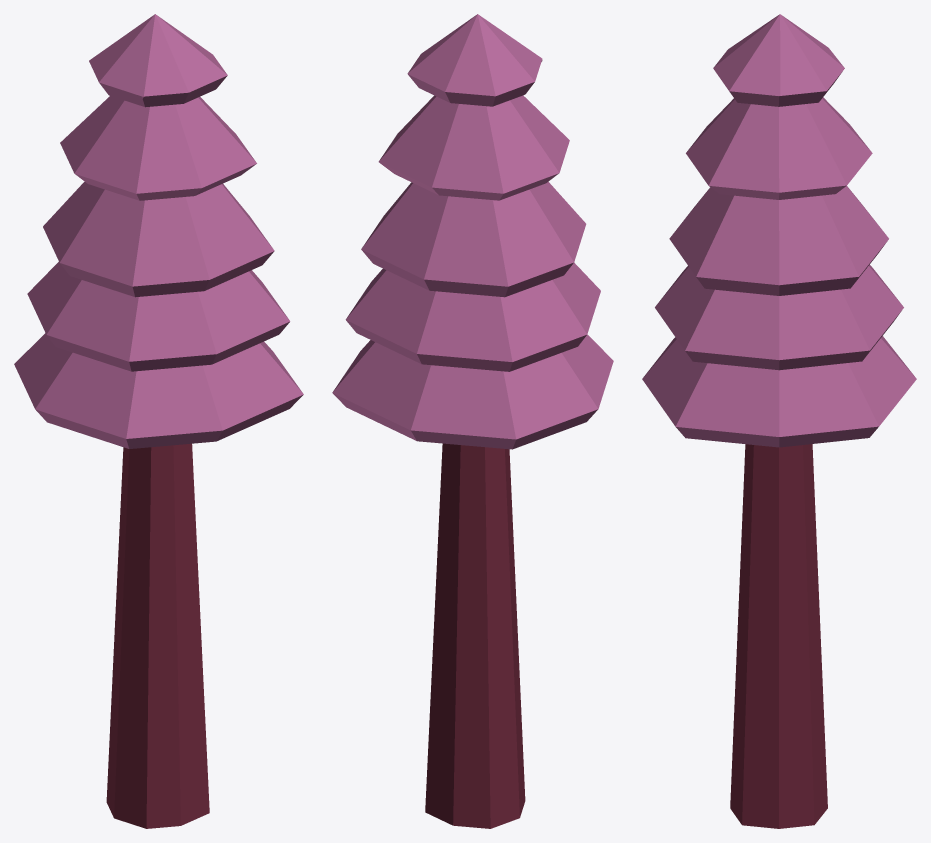
Rendered from Mo_ForestTree06.fbx.
The picture shows the model from 3 angles, left to right: view 1: azimuth 30°, elevation 25°; view 2: azimuth 150°, elevation 25°; view 3: azimuth 270°, elevation 25°; orthographic projection.
Visible parts, largest first — view 1: Cube; view 2: Cube; view 3: Cube.
Part boxes in pixels (left/top/right/bottom): Cube: left=14, top=14, right=303, bottom=828; Cube: left=332, top=14, right=613, bottom=828; Cube: left=642, top=14, right=916, bottom=828.
Size of the model in its own units: 37.51 by 120 by 37.53.
